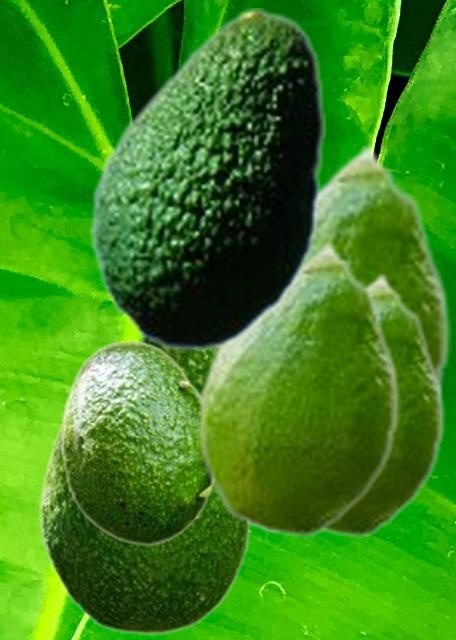avocado: (90, 8, 324, 351), (213, 141, 450, 395), (197, 239, 399, 537), (39, 382, 251, 634), (319, 271, 444, 537), (59, 340, 214, 545), (138, 337, 257, 530)
